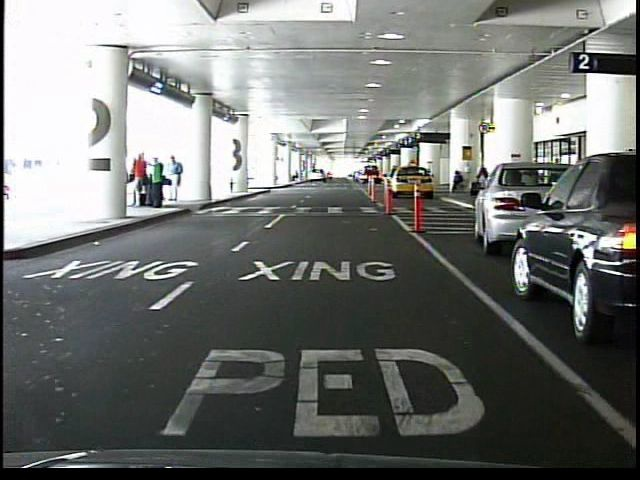person: (150, 156, 166, 209), (169, 156, 185, 203), (134, 151, 147, 207), (477, 163, 490, 195), (449, 171, 464, 195)
